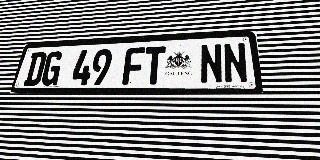4: (70, 50, 95, 85)
9: (89, 49, 113, 85)
D: (23, 52, 48, 86)
F: (122, 47, 145, 85)
G: (40, 51, 64, 86)
N: (223, 42, 249, 84), (200, 43, 223, 84)
T: (143, 46, 166, 85)
